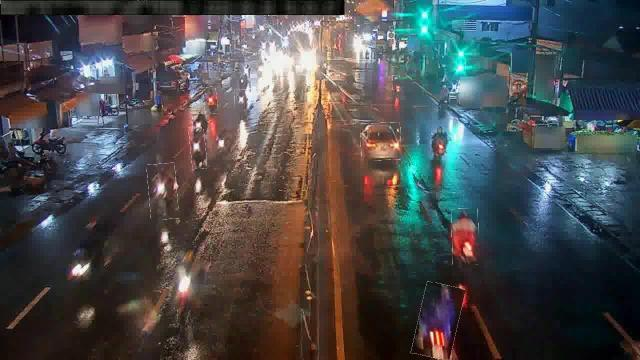Bike: (414, 283, 462, 360), (148, 163, 178, 219), (452, 209, 478, 265), (428, 123, 450, 157), (190, 127, 207, 169), (202, 86, 218, 114), (235, 90, 248, 114), (193, 114, 207, 128), (392, 76, 400, 94)
Car: (361, 123, 402, 161)
